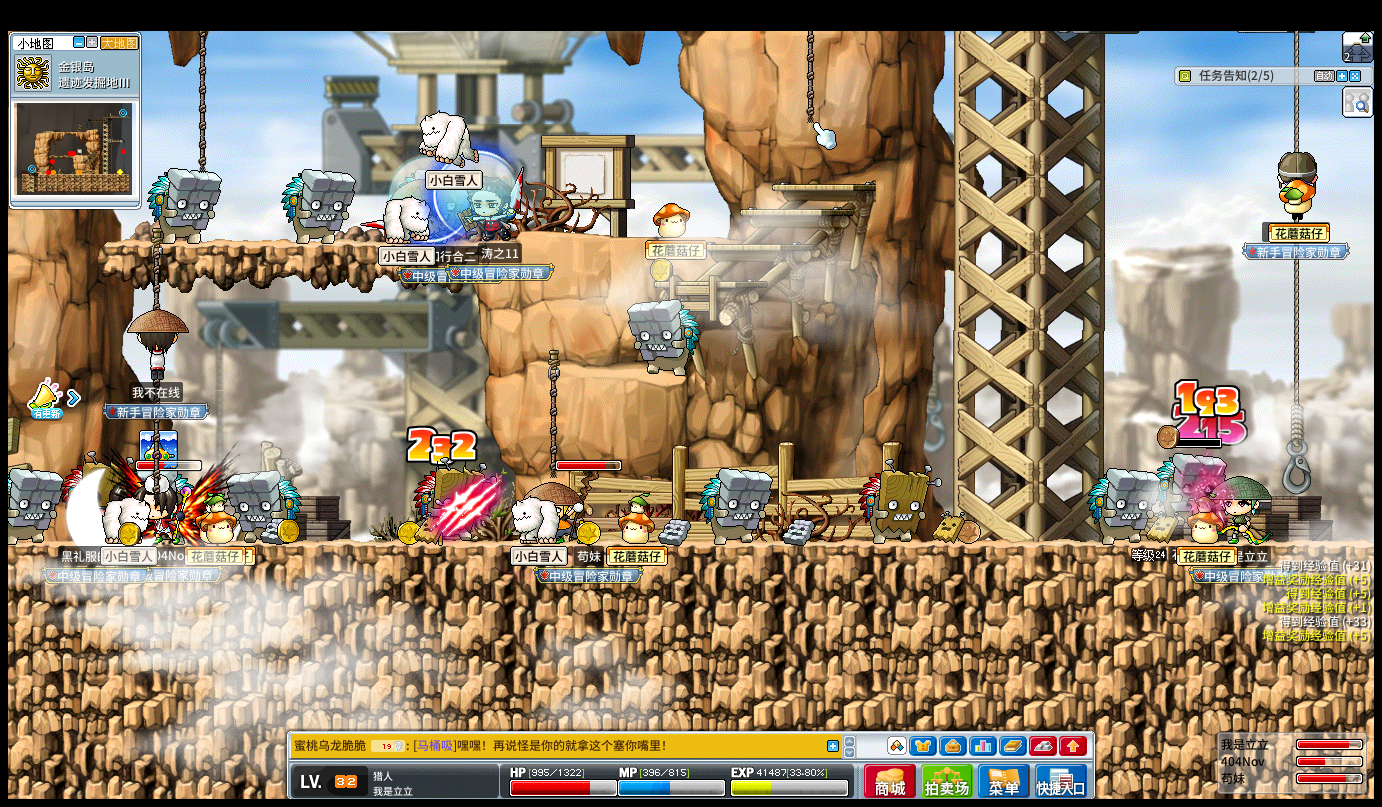floor: (103, 238, 469, 250), (580, 367, 689, 387), (600, 232, 739, 240), (647, 278, 767, 287), (735, 207, 849, 216), (699, 243, 808, 251), (770, 183, 875, 191)
monster: (145, 167, 222, 244), (414, 464, 491, 541), (860, 463, 934, 542), (280, 168, 354, 244), (700, 467, 772, 545), (626, 299, 699, 375), (230, 471, 301, 544), (1088, 467, 1156, 543), (5, 467, 62, 543), (1155, 454, 1219, 502), (430, 185, 473, 238)
rope: (546, 350, 561, 480), (1291, 257, 1302, 406), (198, 30, 207, 173), (150, 233, 162, 308), (1292, 29, 1299, 148), (805, 29, 813, 123), (1290, 404, 1304, 445)
